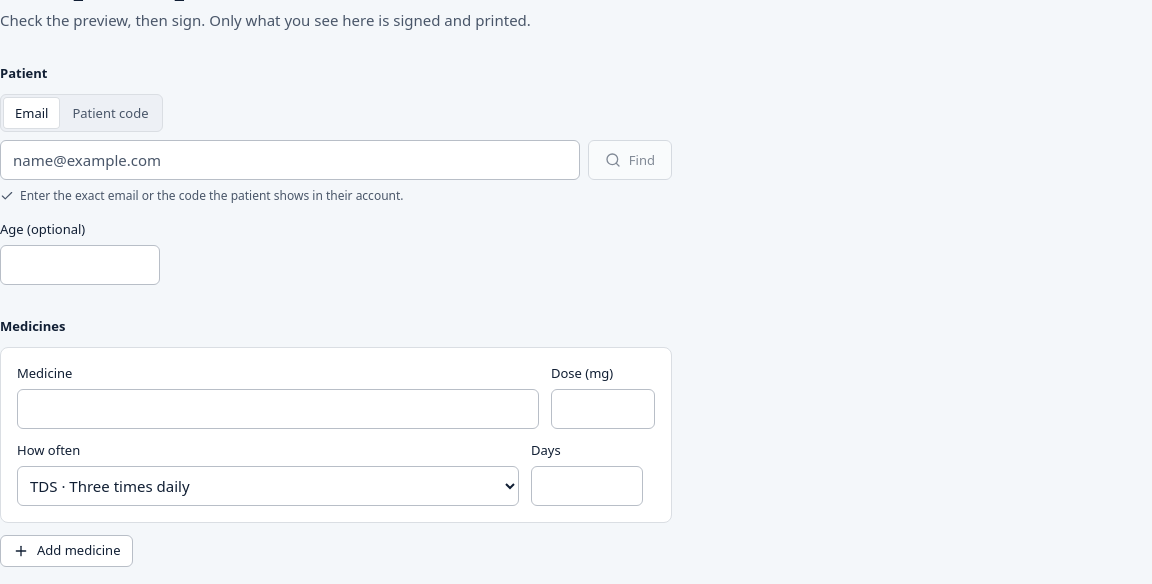
Test: NewPrescription › signs, sends the right body, then offers the PDF
Type "ravi@example.test" into the field named "Patient email". click: (290, 160)
box: [0,140,580,180]
Click the button "Find". click: (630, 160)
box: [588,140,672,180]
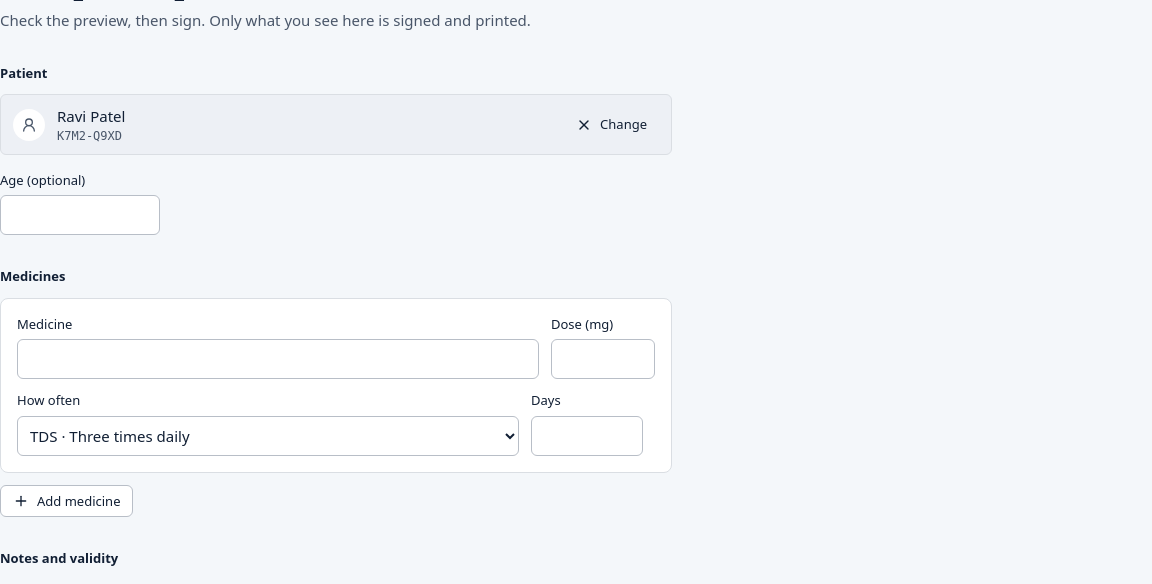
Now the text "Ravi Patel" is shown, box [57,105,125,128]
Type "Amoxicillin" into the field labelled "Medicine". click: (278, 359)
box: [17,339,539,379]
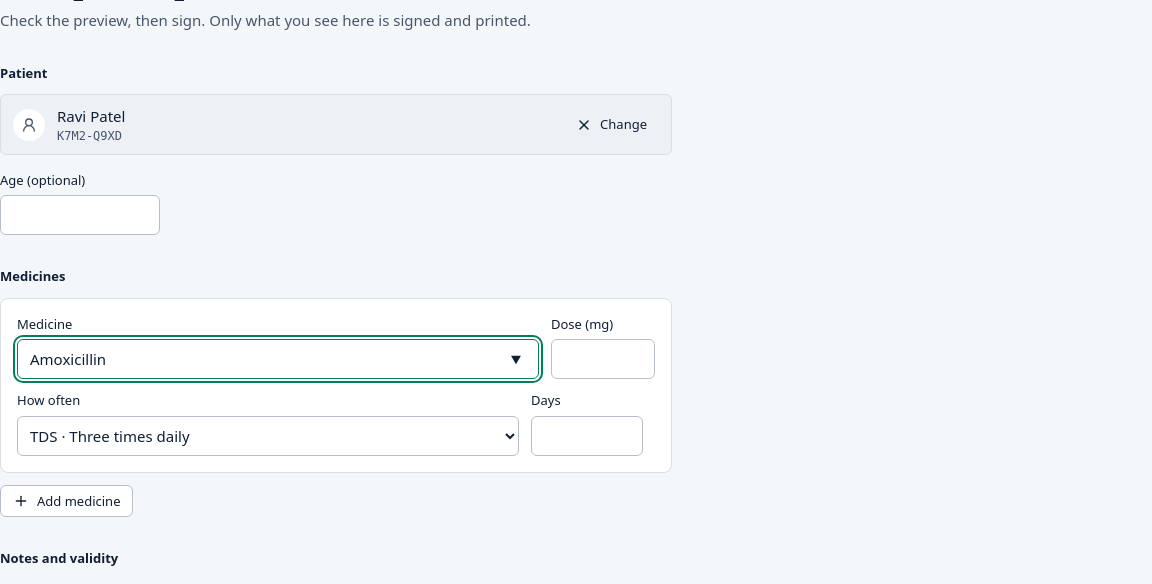
Type "500" into the number field labelled "Dose (mg)". click: (603, 359)
box: [551,339,655,379]
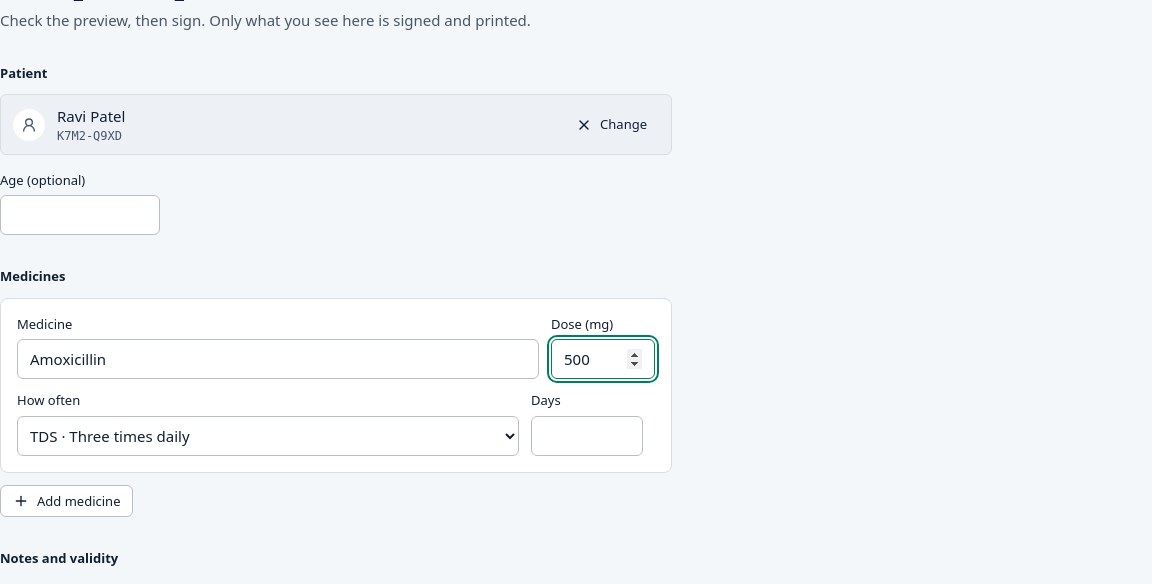
Type "5" into the number field labelled "Days". click: (587, 436)
box: [531,416,643,456]
(page scrolled)
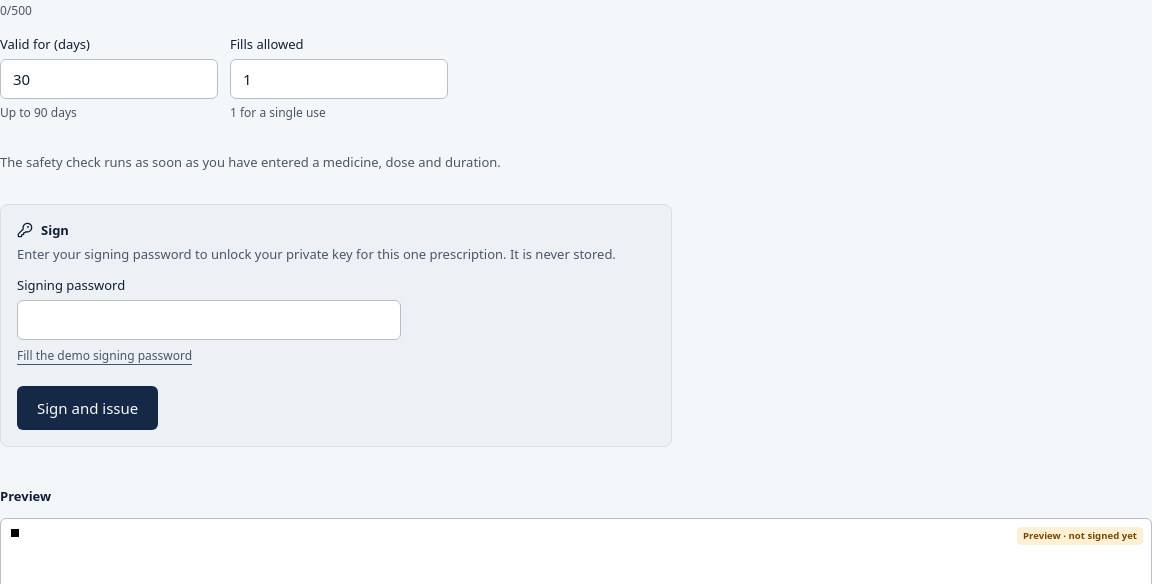
Type "a-long-signing-phrase" into the password field labelled "Signing password". click: (209, 320)
box: [17,300,401,340]
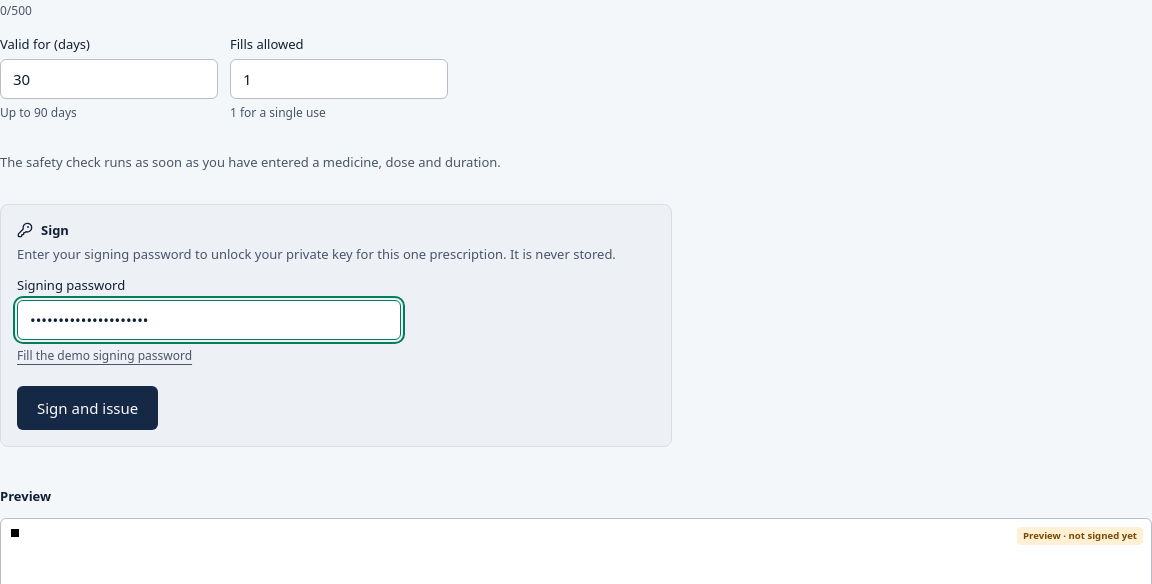
Click the button "Sign and issue". click: (88, 408)
box: [17,386,158,430]
(page scrolled)
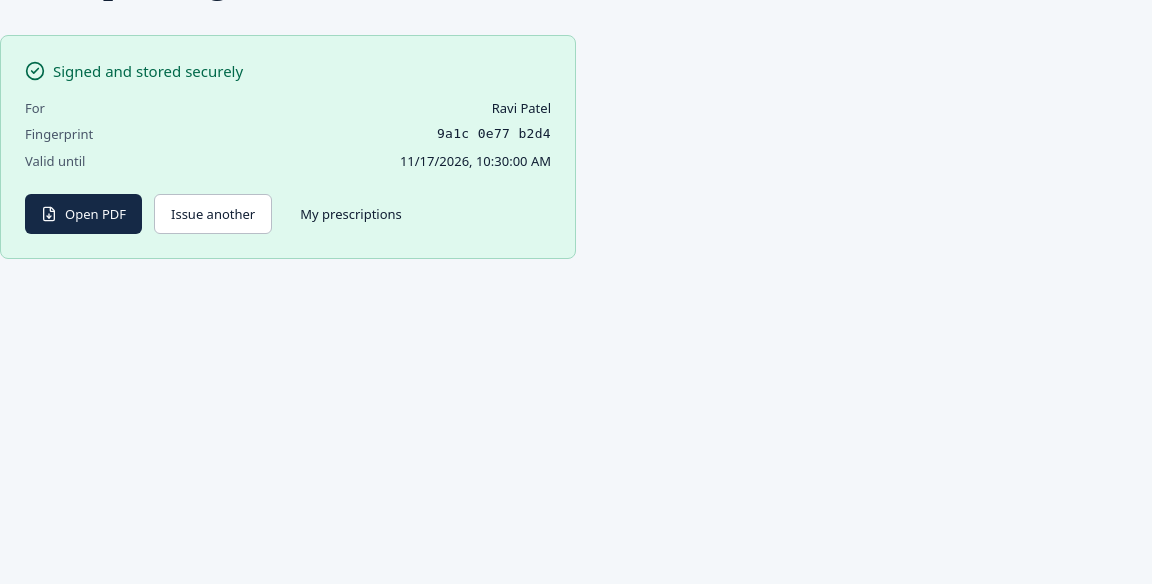
Now the text "Signed and stored securely" is shown, box [25,61,243,82]
